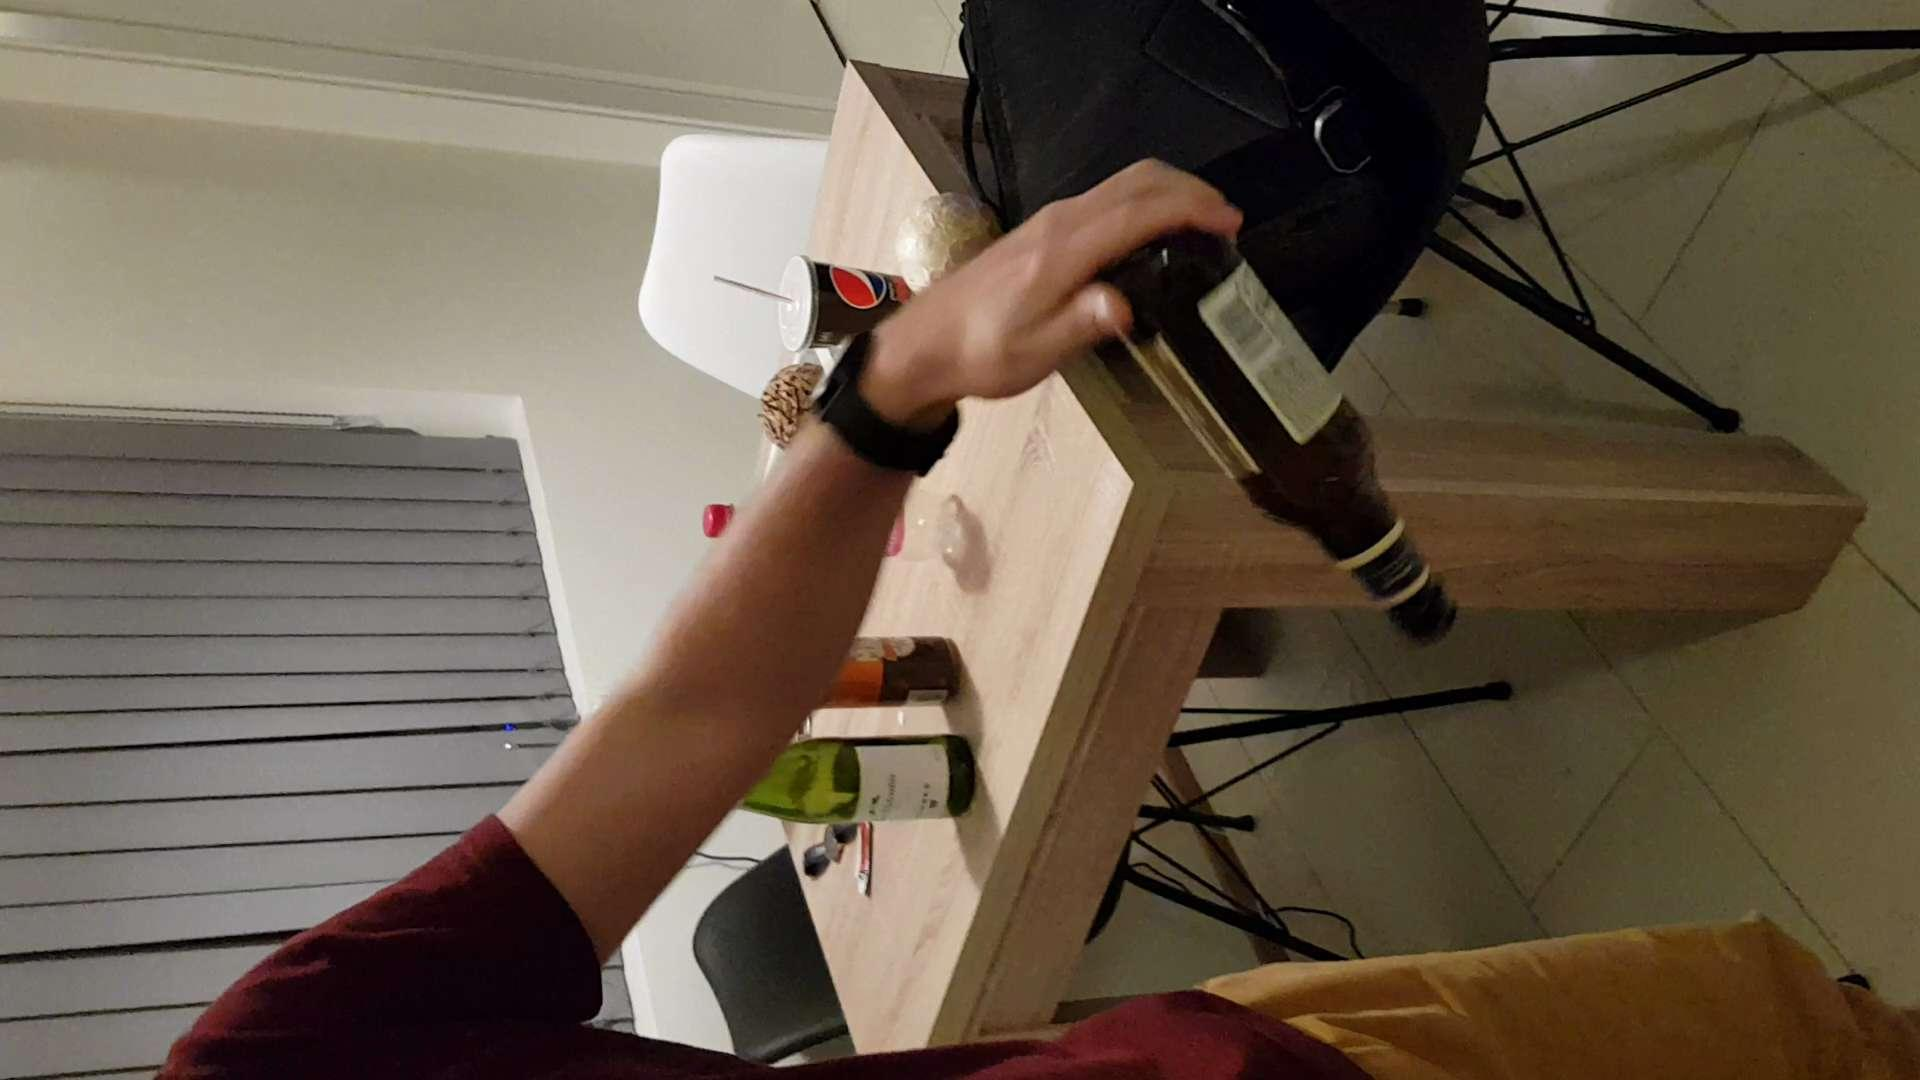Bottle: (1129, 182, 1464, 645)
